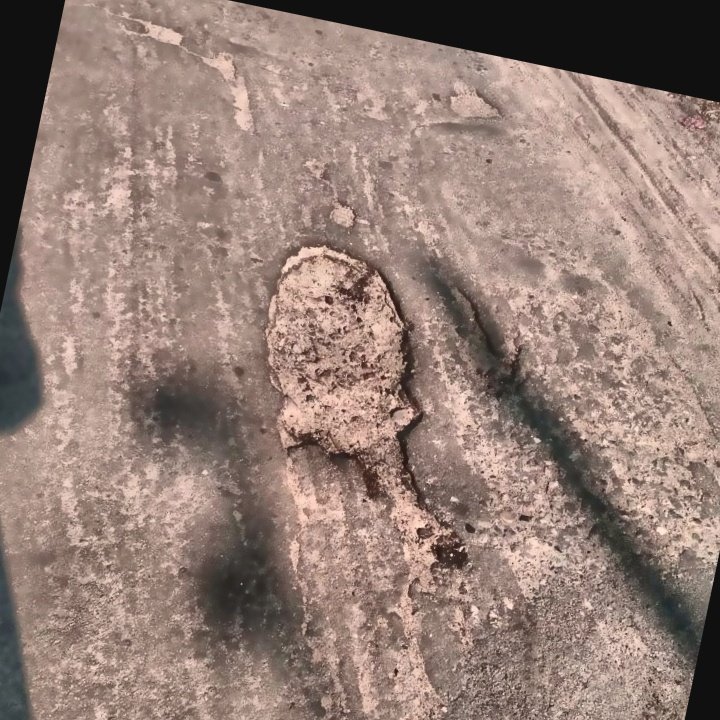pothole: (218, 229, 524, 566), (427, 280, 540, 399), (185, 46, 273, 137), (440, 75, 511, 129), (120, 11, 189, 48), (324, 198, 363, 231)
